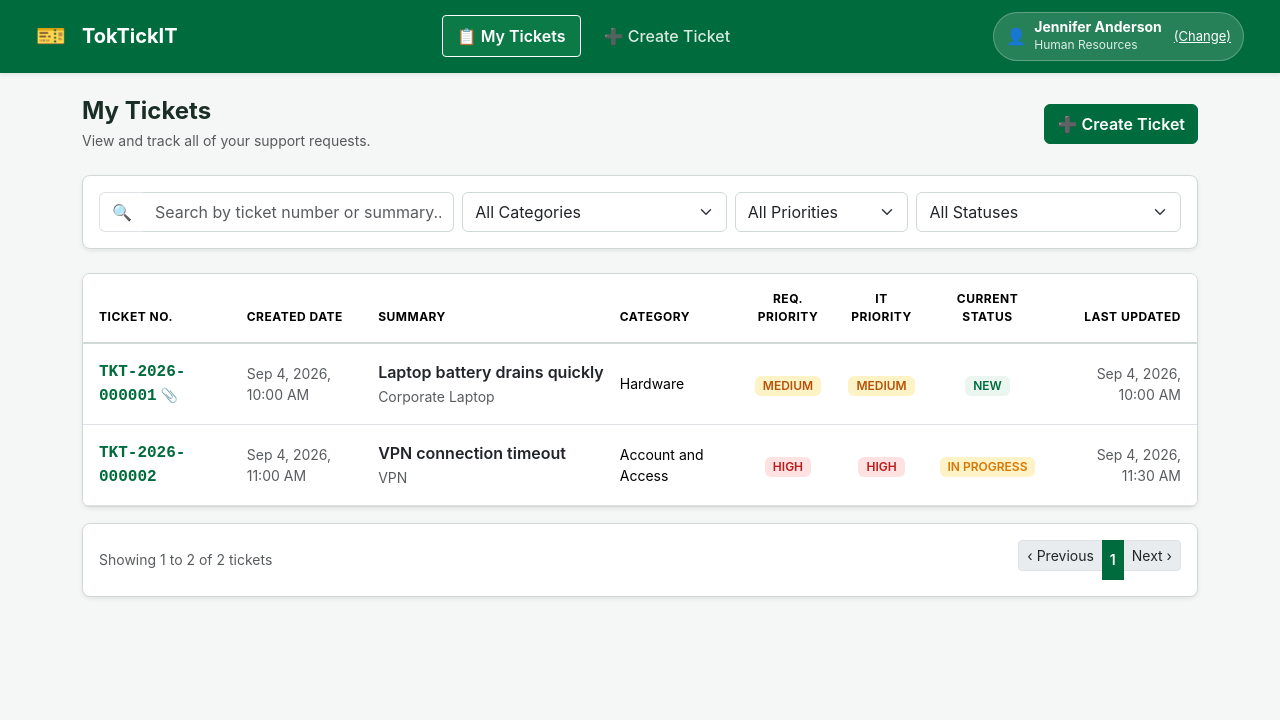
Test case: My Tickets Screen (List Mode) › resets all filters and reloads tickets when Clear Filters button is clicked
Expected: the text "Laptop battery drains quickly" is shown, top-left (378, 360), bottom-right (604, 384)
Expected: the text "VPN connection timeout" is shown, top-left (378, 443), bottom-right (566, 463)
Select "Hardware" in the dropdown with test id "category-filter" at (595, 212), box top-left (462, 192), bottom-right (727, 232)
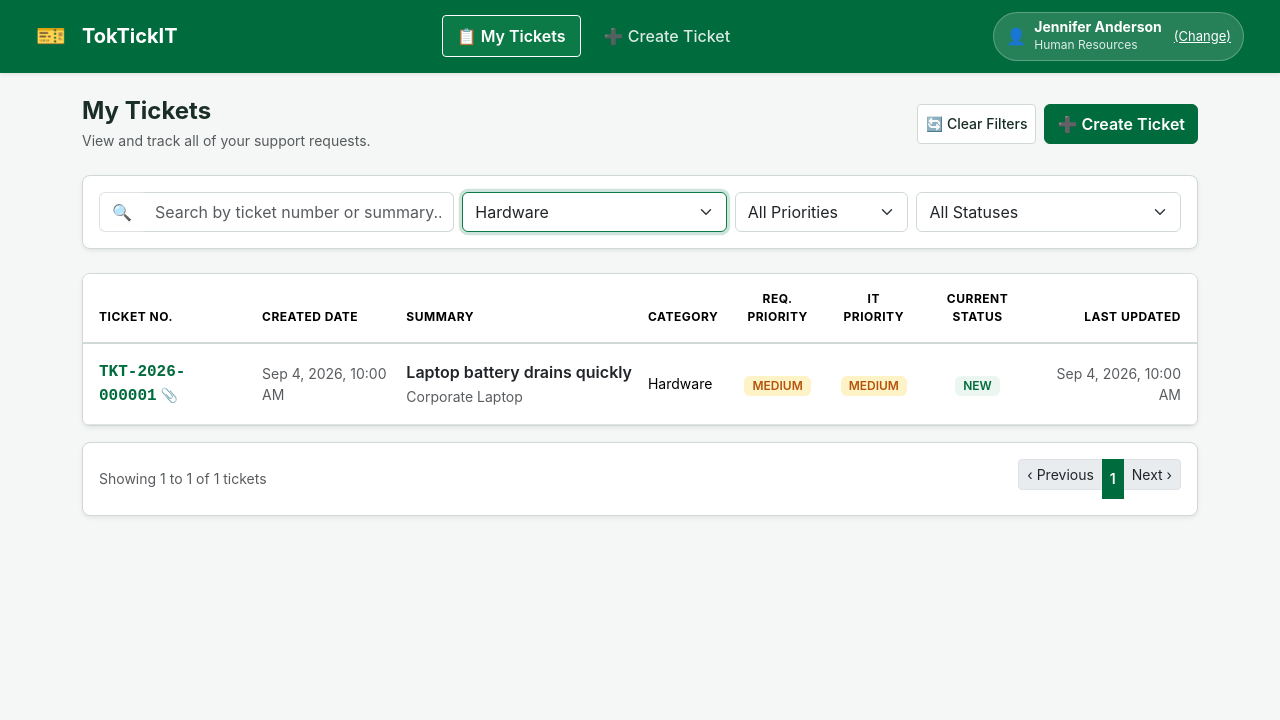
Now the button with test id "clear-filters-btn" is shown
Note: Click Clear Filters button
Click the button with test id "clear-filters-btn" at (977, 124), box top-left (917, 104), bottom-right (1036, 144)
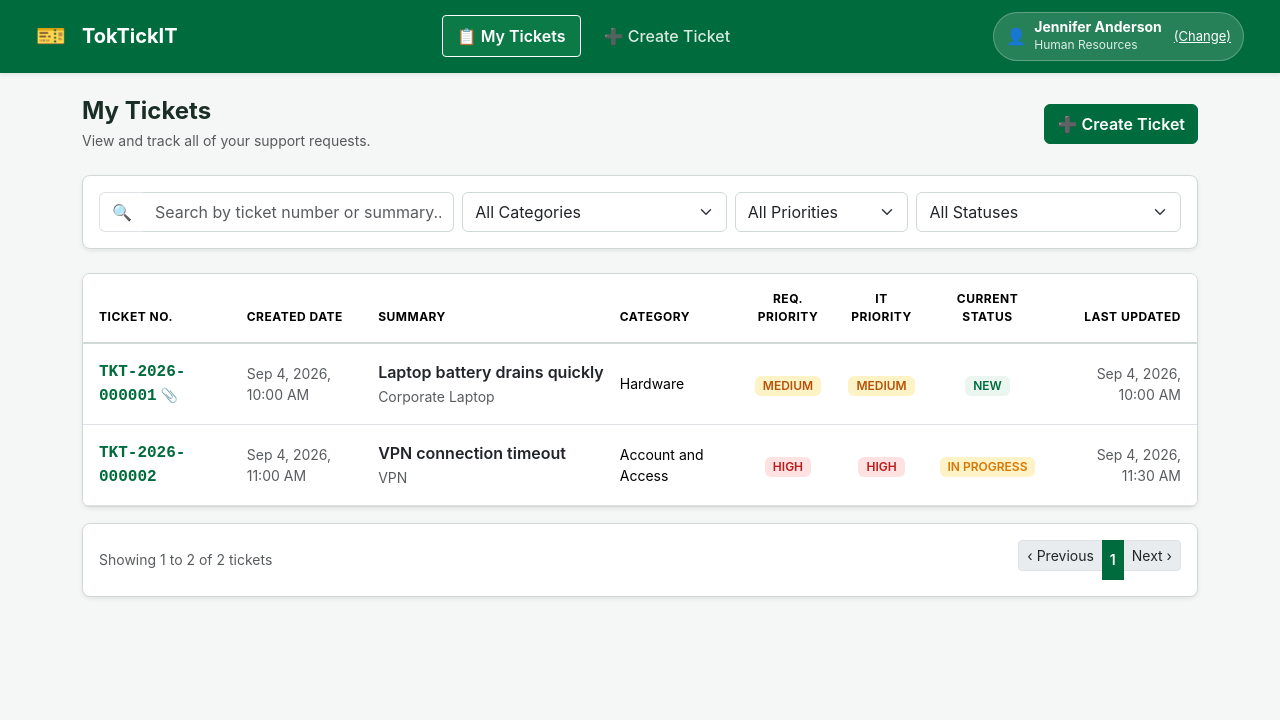
Expected: the field with test id "search-input" is empty, top-left (143, 192), bottom-right (454, 232)
Now the text "VPN connection timeout" is shown, box top-left (378, 443), bottom-right (566, 463)
